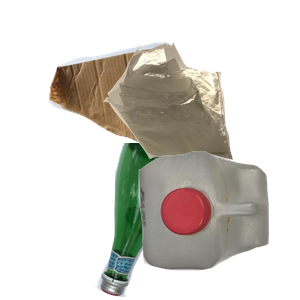cardboard: (46, 40, 226, 179)
glass: (93, 143, 284, 300)
plastic: (136, 149, 300, 300)
trash: (101, 40, 300, 192)
